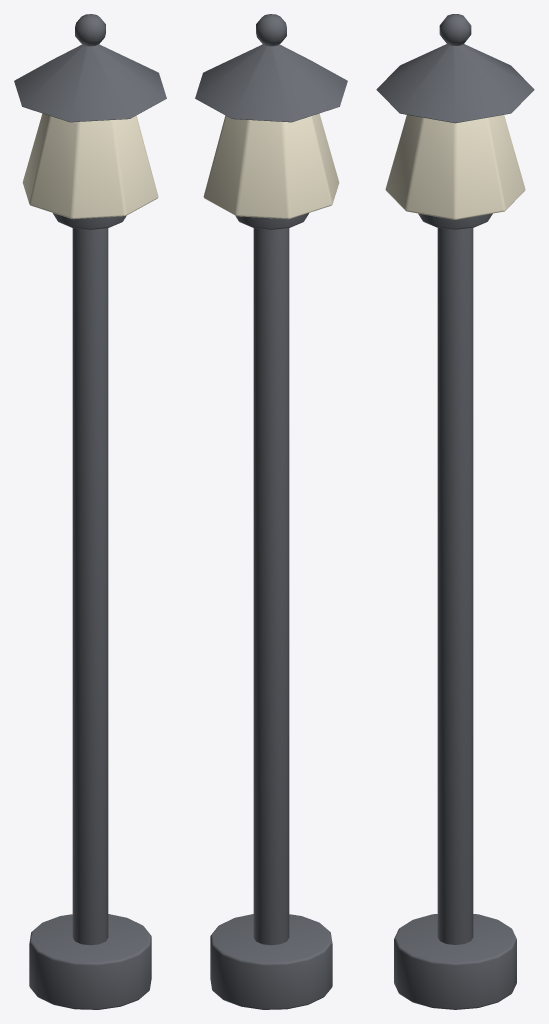
The model's file is th5_laterne_altstadt.glb.
3 renders of one model, left to right at view 1: azimuth 30°, elevation 25°; view 2: azimuth 150°, elevation 25°; view 3: azimuth 270°, elevation 25°, orthographic.
Parts seen in each view (by area): view 1: Cylinder.001, Cone, Cylinder, Cone.001, Sphere, Cylinder.002; view 2: Cylinder.001, Cone, Cylinder, Cone.001, Sphere, Cylinder.002; view 3: Cylinder.001, Cone, Cylinder, Cone.001, Sphere, Cylinder.002.
Boxes of the visible parts, x1,y1,x2,y2 form: Cylinder.001: (72,228,108,945); Cone: (22,113,158,219); Cylinder: (29,914,151,1009); Cone.001: (14,44,166,122); Sphere: (75,14,105,46); Cylinder.002: (53,213,126,229); Cylinder.001: (253,228,289,945); Cone: (203,113,339,219); Cylinder: (210,914,332,1009); Cone.001: (195,44,347,122); Sphere: (256,14,286,46); Cylinder.002: (235,213,308,229); Cylinder.001: (437,228,473,944); Cone: (385,115,525,219); Cylinder: (394,914,516,1009); Cone.001: (376,44,534,123); Sphere: (439,14,471,45); Cylinder.002: (418,213,492,229).
Bounding box in the file's own units: 0.6684 × 4.52 × 0.6684.
